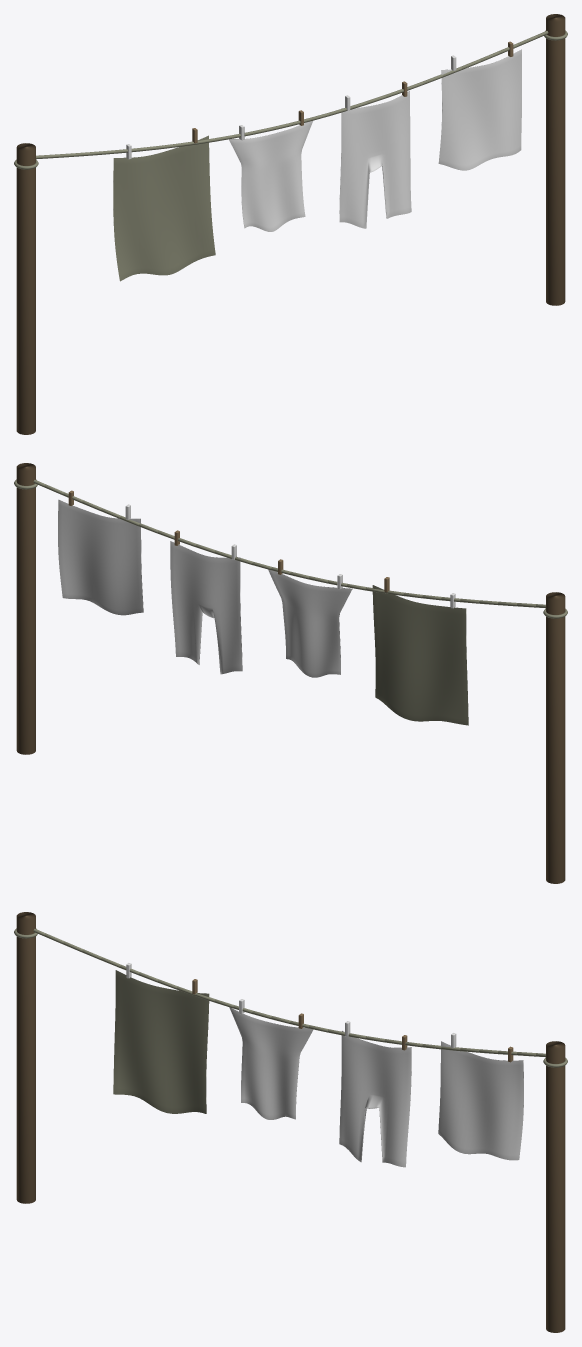
Rendered from Clothesline02.fbx.
3 views of the same model, one above another, from view 1: azimuth 30°, elevation 25°; view 2: azimuth 150°, elevation 25°; view 3: azimuth 330°, elevation 25° (orthographic).
Visible parts, largest first — view 1: Clothesline02; view 2: Clothesline02; view 3: Clothesline02.
Part boxes in pixels (box(x1,y1,x2,y2)): Clothesline02: box(14, 14, 567, 434); Clothesline02: box(14, 463, 567, 883); Clothesline02: box(14, 912, 567, 1332).
Bounding box in the file's own units: 427 × 210 × 16.6.
